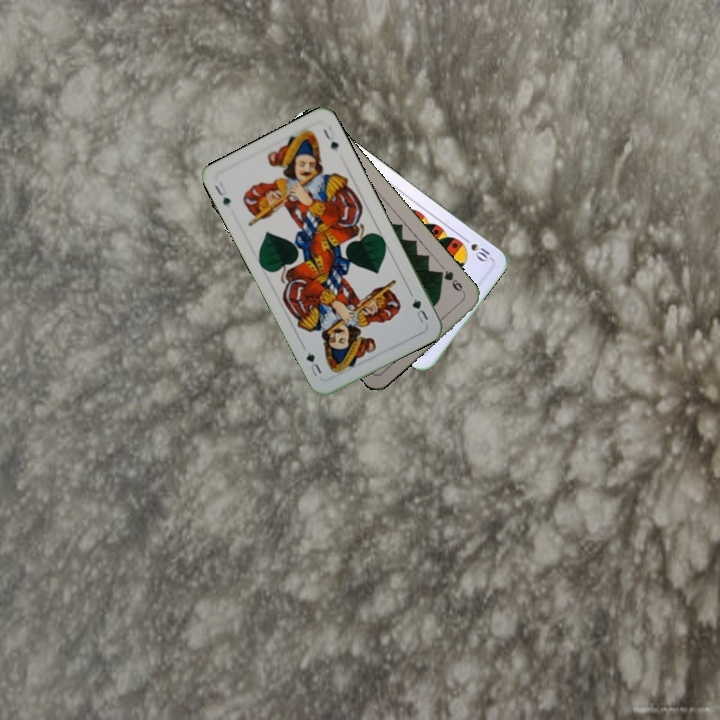G9: (434, 266, 468, 297)
GU: (408, 294, 431, 326), (211, 178, 233, 208)
S10: (459, 233, 494, 265)
